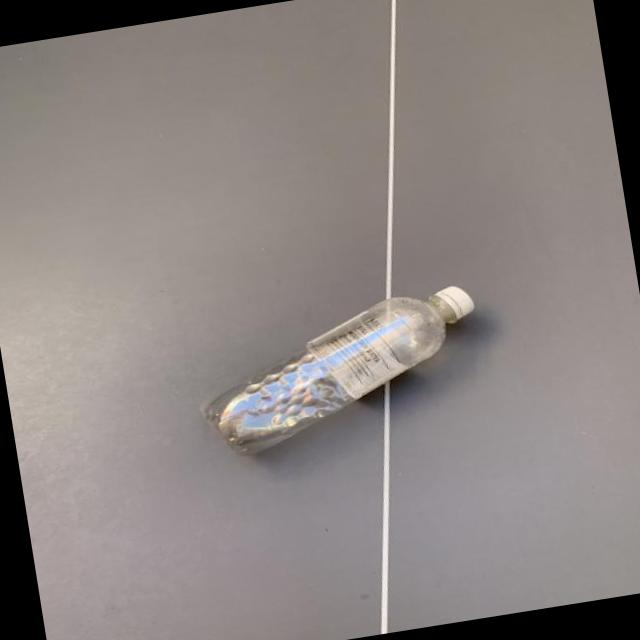plastic_bottle: (190, 282, 492, 462)
